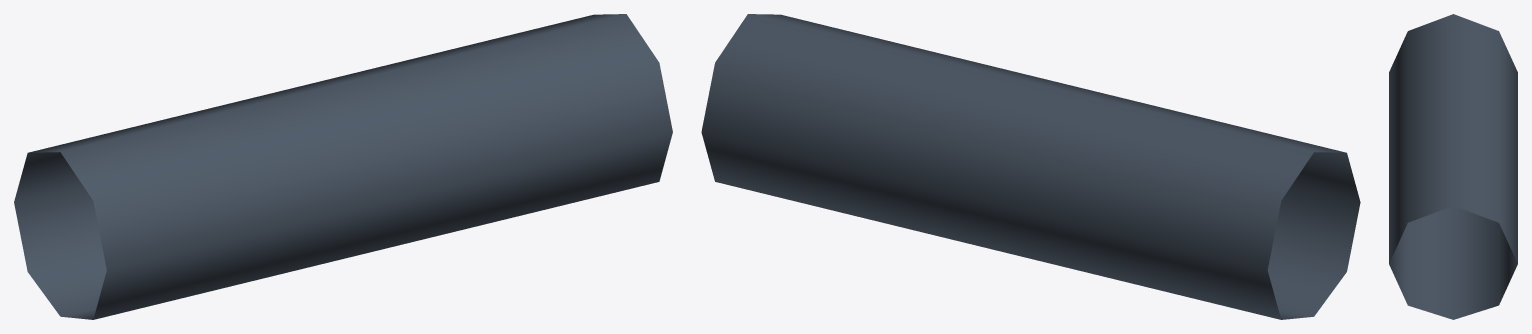
Rendered from Pipe_1_A_1_1.fbx.
The picture shows the model from 3 angles, left to right: view 1: azimuth 30°, elevation 25°; view 2: azimuth 150°, elevation 25°; view 3: azimuth 270°, elevation 25°; orthographic projection. The views are drawn at different scales.
Visible parts, largest first — view 1: Pipe_1_A_1_1; view 2: Pipe_1_A_1_1; view 3: Pipe_1_A_1_1.
Boxes of the visible parts, box(x1,y1,x2,y2) form: Pipe_1_A_1_1: box(14, 14, 672, 319); Pipe_1_A_1_1: box(701, 14, 1360, 319); Pipe_1_A_1_1: box(1389, 14, 1517, 319).
Bounding box in the file's own units: 76.72 × 21.31 × 21.8.
